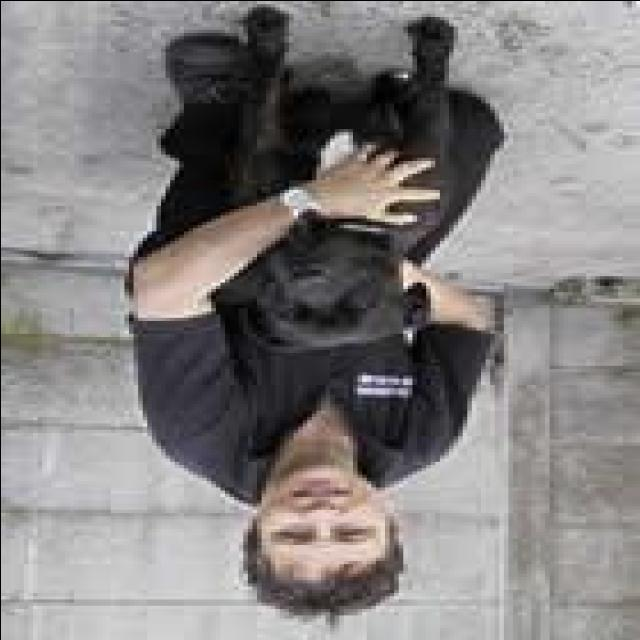staffordshire_bullterrier: (201, 3, 498, 352)
